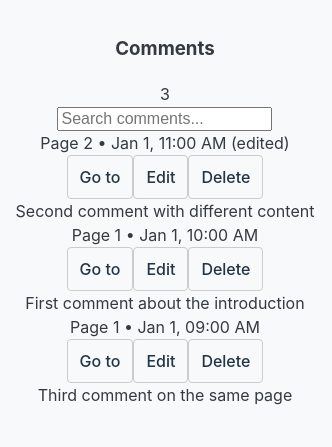
Scenario: CommentList › Edit Functionality › shows error for empty content
# Enter edit mode
Click the button "Edit" below "Jan 1, 11:00 AM".
click(161, 177)  # box [133,155,188,199]
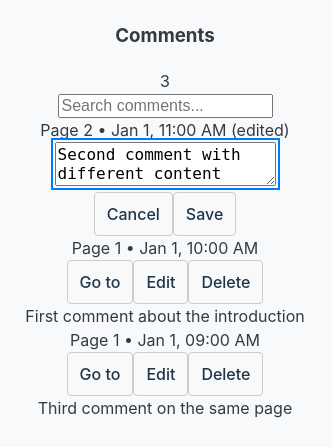
# Clear content
Clear the text box showing "Second comment with different content" at (165, 164), box [54,142,276,186]
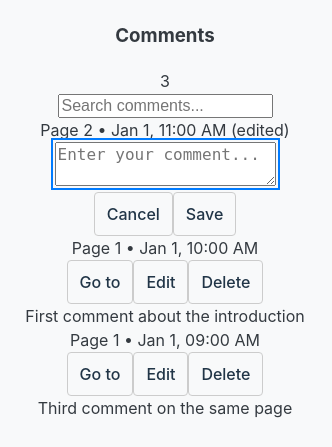
# Try to save
Click the button "Save".
click(205, 214)  # box [173,192,236,236]
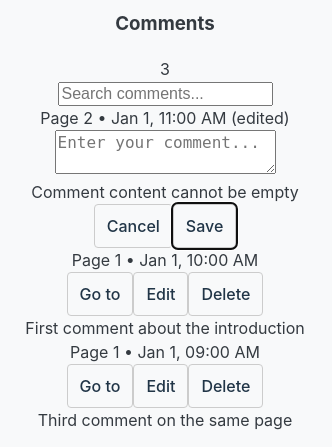
expect the text "Comment content cannot be empty" is shown: met, box [25,180,305,204]
